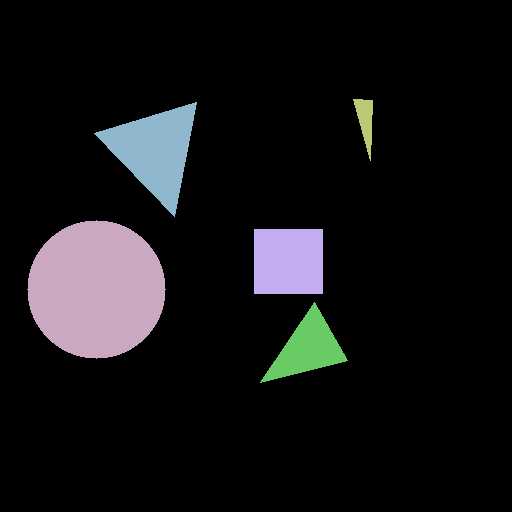circle: (27, 220, 165, 358)
square: (254, 229, 322, 293)
triangle: (94, 102, 196, 216), (260, 302, 347, 382), (353, 99, 372, 160)
